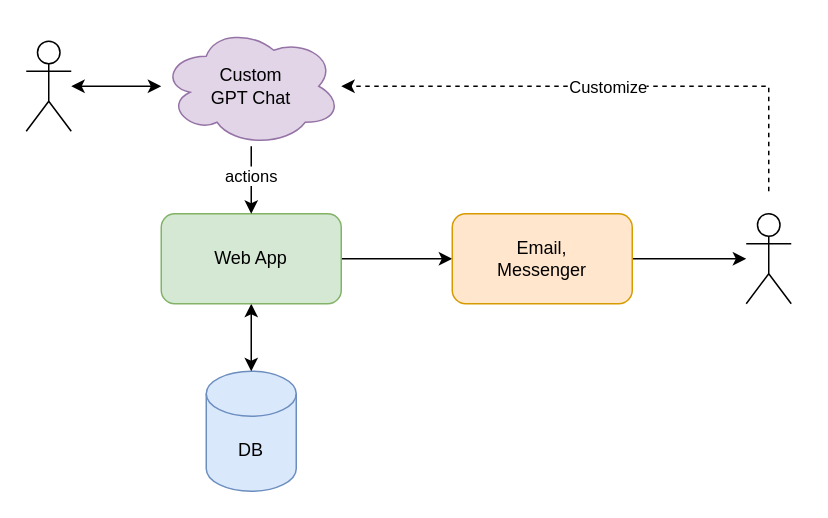
This 828x518 diagram has some shape labels left out. The box of each missing label's shape, as (x1, y1, x2, y2) in pixels:
Business: (745, 212, 791, 304)
User: (25, 40, 71, 131)
